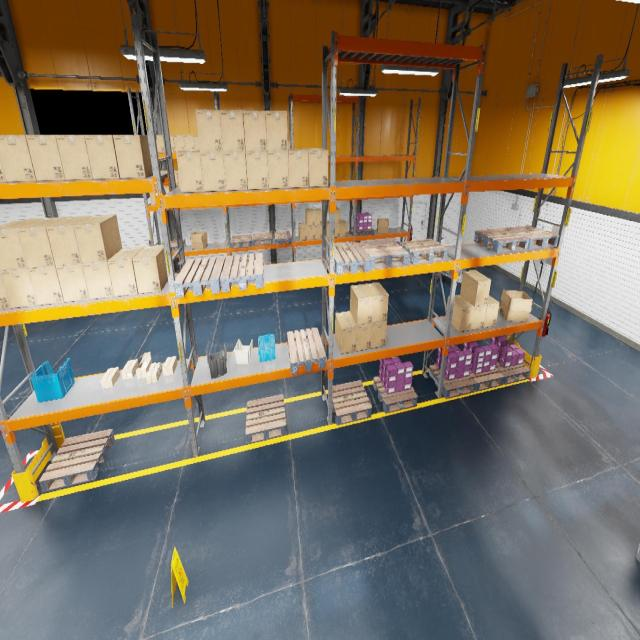box: (18, 217, 68, 268), (73, 214, 122, 263), (46, 215, 92, 266), (0, 218, 42, 270), (107, 246, 144, 296), (26, 134, 65, 180), (0, 134, 37, 182), (113, 134, 153, 178), (132, 245, 168, 293), (56, 135, 92, 180), (85, 134, 120, 179), (0, 269, 38, 308), (28, 266, 64, 305), (56, 264, 90, 302), (82, 262, 114, 300), (176, 150, 204, 192), (195, 109, 222, 152), (460, 270, 491, 306), (446, 294, 474, 332), (220, 110, 245, 151), (500, 290, 532, 322), (200, 152, 226, 191), (243, 110, 267, 151), (460, 294, 487, 330), (223, 152, 248, 190), (335, 311, 357, 354), (350, 284, 373, 325), (366, 282, 388, 323), (265, 111, 288, 150), (306, 148, 328, 187), (246, 151, 268, 190), (267, 151, 289, 189), (288, 149, 309, 188), (351, 313, 372, 351), (484, 295, 499, 328), (136, 351, 152, 379), (371, 321, 387, 348), (100, 367, 120, 388), (0, 272, 11, 310), (146, 362, 162, 383), (190, 231, 208, 249), (122, 359, 138, 379), (162, 356, 177, 376), (173, 134, 185, 152), (163, 134, 175, 152), (167, 170, 178, 187), (376, 218, 388, 233), (305, 208, 315, 226), (184, 134, 195, 150), (298, 223, 308, 240), (0, 158, 7, 182), (160, 170, 169, 188), (156, 134, 165, 152), (313, 208, 322, 225), (306, 223, 315, 240), (340, 220, 347, 236), (315, 225, 322, 239), (149, 192, 156, 205), (335, 208, 340, 224), (194, 134, 199, 150), (334, 224, 340, 237), (177, 170, 180, 186), (327, 221, 329, 238), (164, 188, 169, 193), (288, 141, 290, 148)
pallets: (39, 428, 114, 492), (174, 256, 225, 297), (245, 394, 286, 444), (332, 380, 372, 425), (287, 327, 325, 374), (373, 376, 418, 413), (221, 253, 263, 292), (428, 364, 476, 398), (359, 240, 409, 268), (328, 242, 371, 274), (474, 228, 529, 253), (504, 226, 559, 249), (400, 239, 448, 265), (470, 368, 504, 391), (496, 362, 530, 384), (160, 240, 185, 252), (230, 235, 252, 248), (274, 231, 292, 245), (252, 233, 272, 245), (353, 226, 374, 236), (442, 269, 466, 276)
